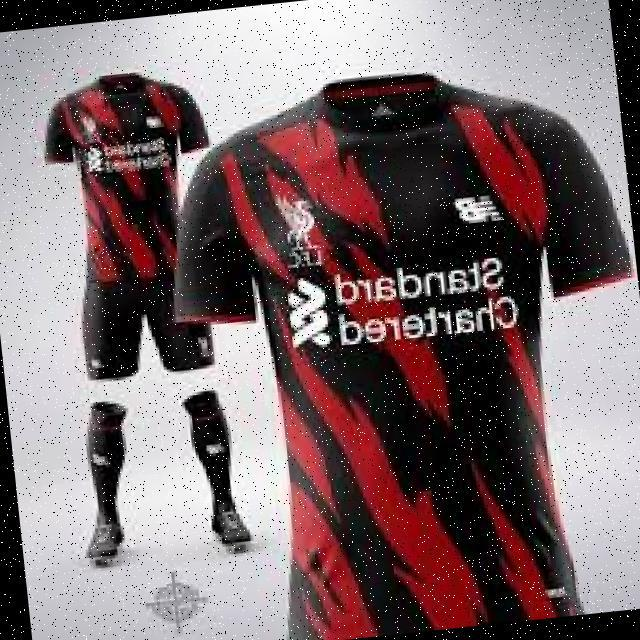Standard Chartered: (286, 249, 522, 354), (75, 133, 172, 178)
